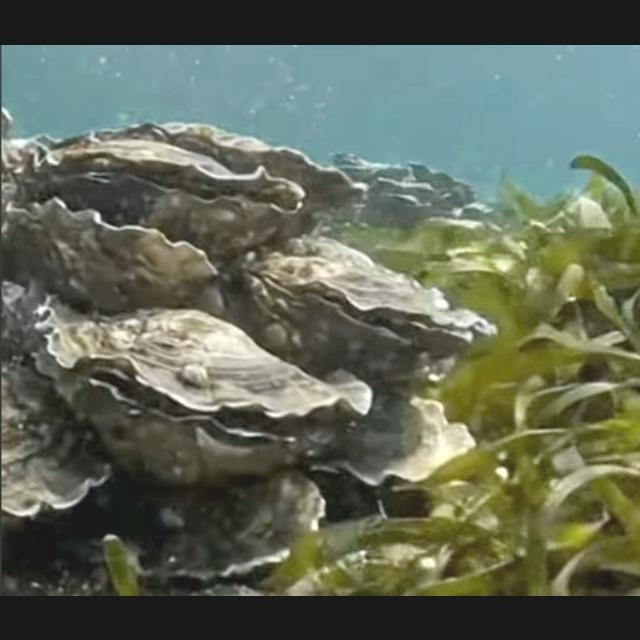Oyster-Closed: (96, 120, 368, 218), (110, 463, 326, 579), (5, 195, 218, 309), (0, 338, 112, 518), (300, 380, 478, 490)
Oyster-Open: (30, 292, 374, 480), (242, 234, 500, 372), (16, 132, 306, 254)
